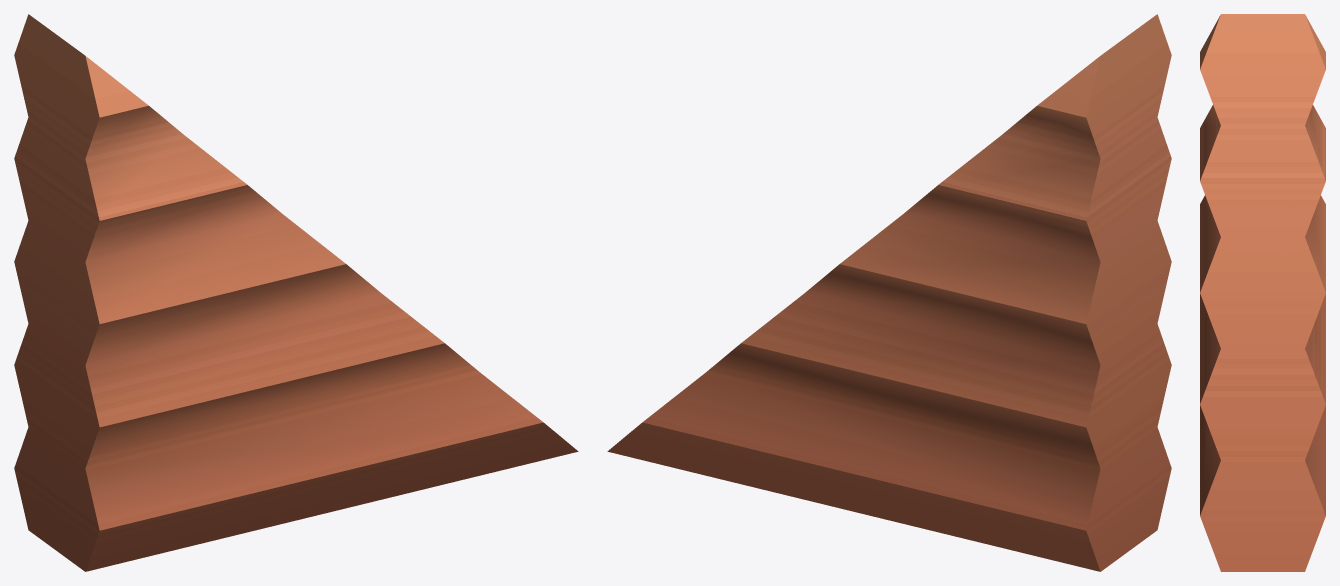
Rendered from cabin-wall-roof.glb.
3 views of the same model, side by side, from view 1: azimuth 30°, elevation 25°; view 2: azimuth 150°, elevation 25°; view 3: azimuth 270°, elevation 25° (orthographic). The views are drawn at different scales.
Parts seen in each view (by area): view 1: cabin-wall-roof; view 2: cabin-wall-roof; view 3: cabin-wall-roof.
Boxes of the visible parts, x1,y1,x2,y2 form: cabin-wall-roof: (14, 14, 578, 571); cabin-wall-roof: (607, 14, 1171, 571); cabin-wall-roof: (1200, 14, 1325, 571).
Size of the model in its own units: 1 by 1 by 0.3.
1 material, 1 textured.
